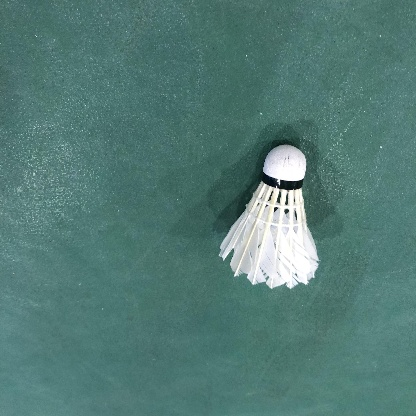ball_single: (219, 144, 319, 289)
